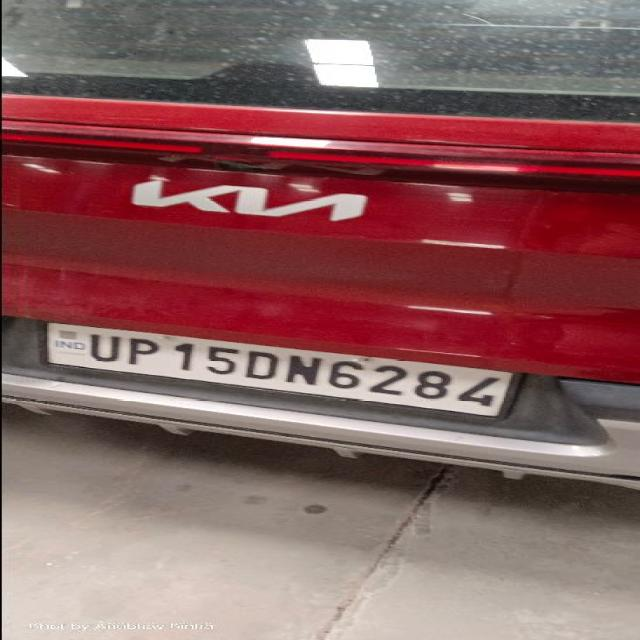license_plate: (42, 320, 525, 420)
